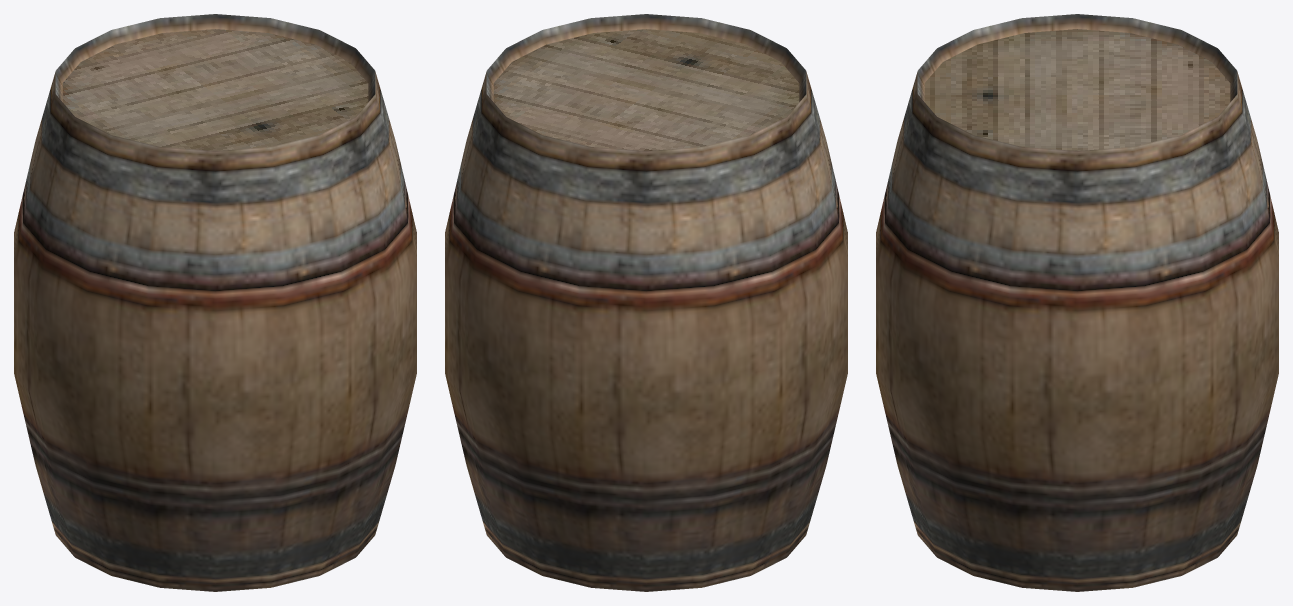
The model's file is barrel.DAE.
The picture shows the model from 3 angles, left to right: view 1: azimuth 30°, elevation 25°; view 2: azimuth 150°, elevation 25°; view 3: azimuth 270°, elevation 25°; orthographic projection.
Visible parts, largest first — view 1: Object001, Cylinder001, Cylinder002; view 2: Object001, Cylinder001, Cylinder002; view 3: Object001, Cylinder001, Cylinder002.
Part boxes in pixels (bbox=[...]): Object001: bbox=[14, 72, 416, 591]; Cylinder001: bbox=[62, 29, 368, 150]; Cylinder002: bbox=[55, 14, 375, 101]; Object001: bbox=[445, 72, 847, 591]; Cylinder001: bbox=[493, 29, 799, 150]; Cylinder002: bbox=[486, 14, 806, 101]; Object001: bbox=[876, 72, 1278, 591]; Cylinder001: bbox=[924, 29, 1230, 150]; Cylinder002: bbox=[917, 14, 1237, 101].
Bounding box in the file's own units: 2.52 × 2.48 × 3.
Materials: 2 (2 with a texture image).
